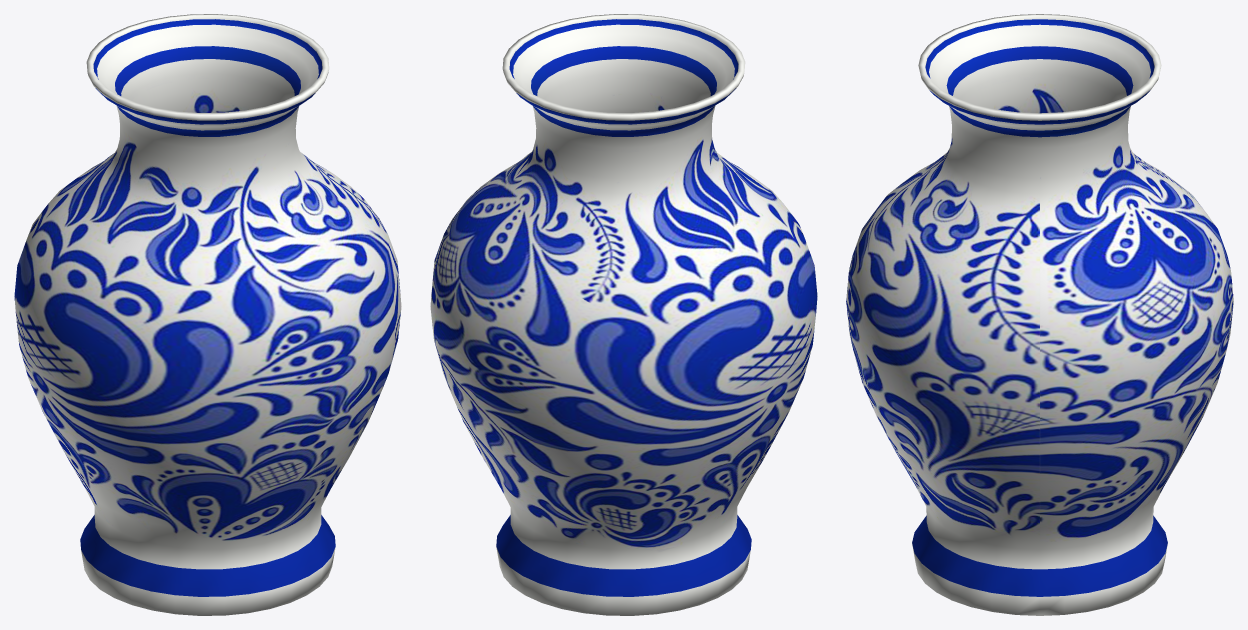
File: vase1.fbx
3 renders of one model, left to right at view 1: azimuth 30°, elevation 25°; view 2: azimuth 150°, elevation 25°; view 3: azimuth 270°, elevation 25°, orthographic.
Parts seen in each view (by area): view 1: vase; view 2: vase; view 3: vase.
Boxes of the visible parts, bbox=[...] form: vase: bbox=[14, 14, 401, 615]; vase: bbox=[430, 14, 817, 615]; vase: bbox=[846, 14, 1233, 615].
Bounding box in the file's own units: 60.73 × 87.79 × 60.73.
